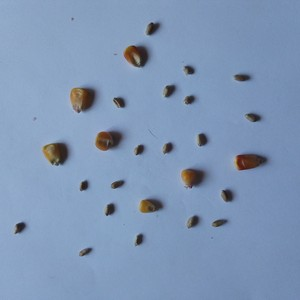maiz: (69, 85, 91, 114), (233, 151, 262, 173), (42, 141, 65, 167), (121, 43, 144, 68), (92, 129, 114, 151), (179, 166, 199, 189), (136, 197, 159, 215)
trigo: (144, 21, 159, 36), (112, 95, 127, 110), (244, 110, 259, 124), (217, 188, 231, 203), (232, 73, 251, 84), (12, 221, 26, 234), (195, 132, 207, 147), (78, 246, 93, 258), (109, 179, 125, 190), (211, 218, 228, 228), (104, 203, 116, 217), (185, 215, 197, 229), (163, 84, 174, 99), (133, 143, 144, 158), (133, 233, 144, 248), (182, 94, 195, 105), (78, 179, 89, 192), (183, 64, 194, 76), (162, 142, 172, 154)
